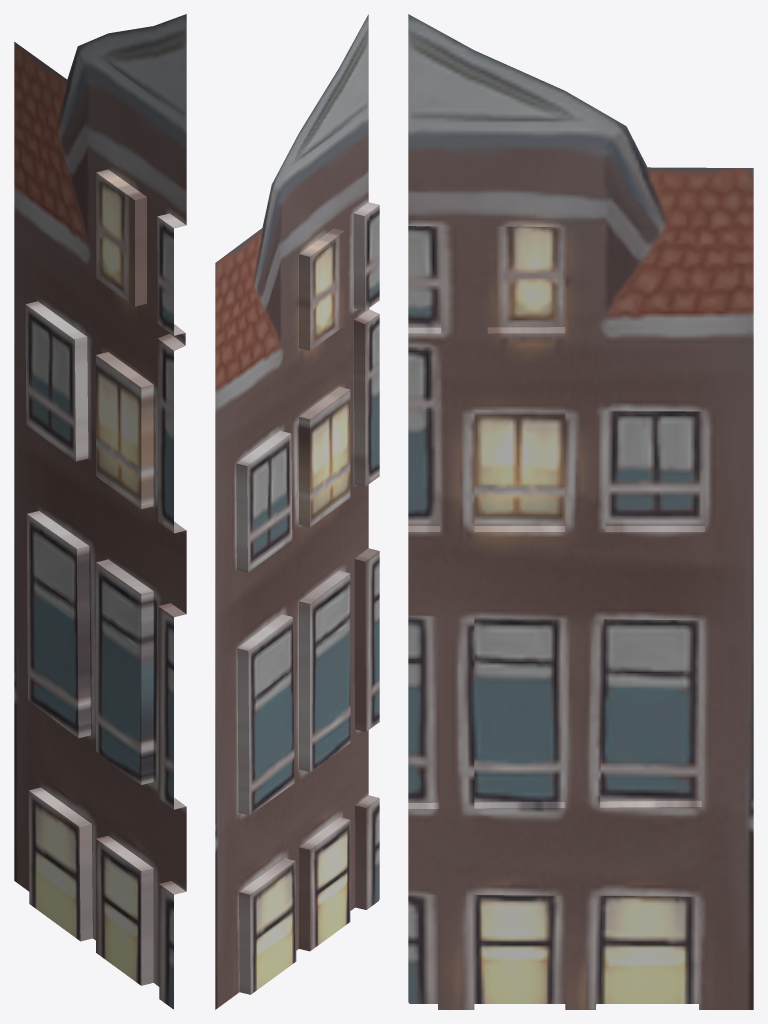
The model's file is Mesh_Exterior_House1.fbx.
3 views of the same model, side by side, from view 1: azimuth 30°, elevation 25°; view 2: azimuth 150°, elevation 25°; view 3: azimuth 270°, elevation 25° (orthographic). The views are drawn at different scales.
Parts seen in each view (by area): view 1: House1; view 2: House1; view 3: House1.
Boxes of the visible parts, x1=… form: House1: x1=14, y1=14, x2=186, y2=1009; House1: x1=215, y1=14, x2=379, y2=1009; House1: x1=408, y1=14, x2=753, y2=1009.
Bounding box in the file's own units: 6.33 × 484 × 152.
